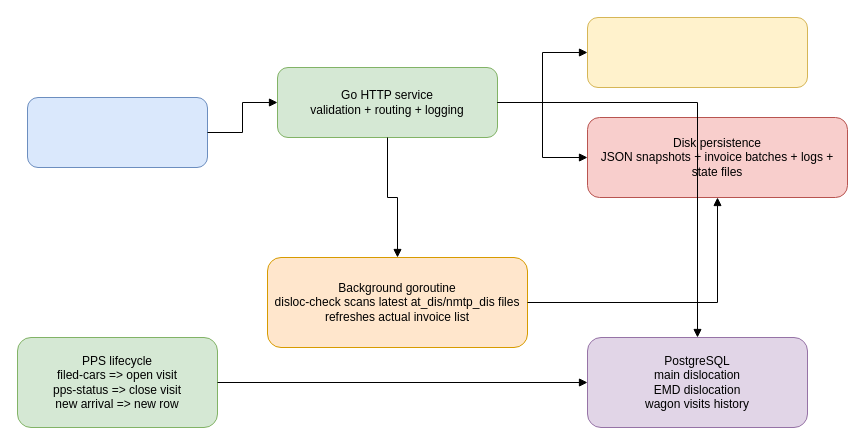
This 865x445 diagram has some shape labels left out. The centre of each missing label's shape, as x and y in pixels:
"Client request /soap/* or /api/wagons*" goes at point (117, 132).
"External ASU SOAP server proxy target for /soap/*" goes at point (697, 52).
